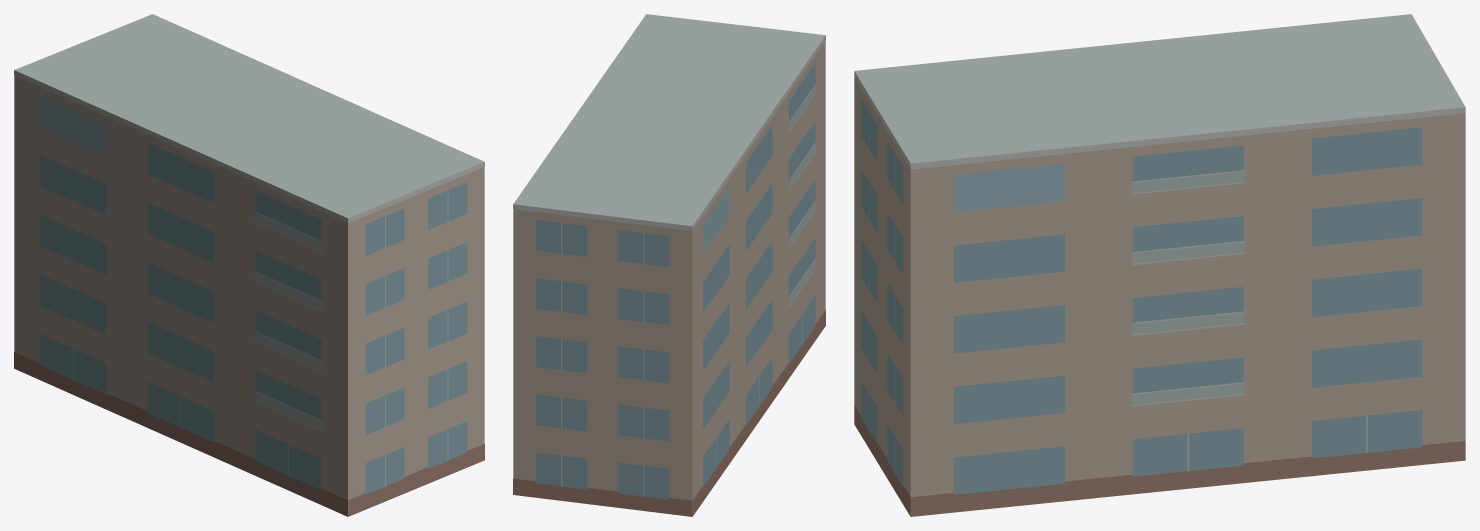
File: survey-upis-32954319.glb
3 renders of one model, left to right at view 1: azimuth 30°, elevation 25°; view 2: azimuth 150°, elevation 25°; view 3: azimuth 270°, elevation 25°, orthographic. The views are drawn at different scales.
Parts seen in each view (by area): view 1: survey-upis-32954319.tmp; view 2: survey-upis-32954319.tmp; view 3: survey-upis-32954319.tmp.
Boxes of the visible parts, box(x1,y1,x2,y2) form: survey-upis-32954319.tmp: box(14, 14, 484, 516); survey-upis-32954319.tmp: box(513, 14, 825, 516); survey-upis-32954319.tmp: box(854, 14, 1465, 516).
Bounding box in the file's own units: 13.18 × 14.5 × 22.75.
